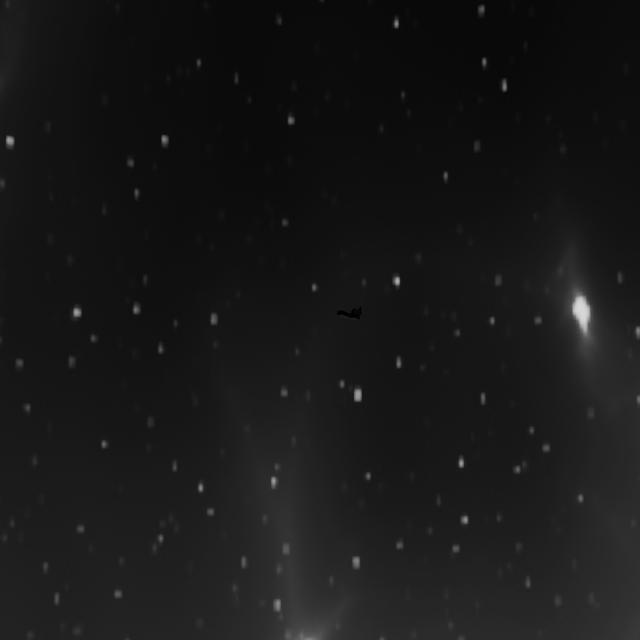large_debris: (334, 301, 364, 326)
